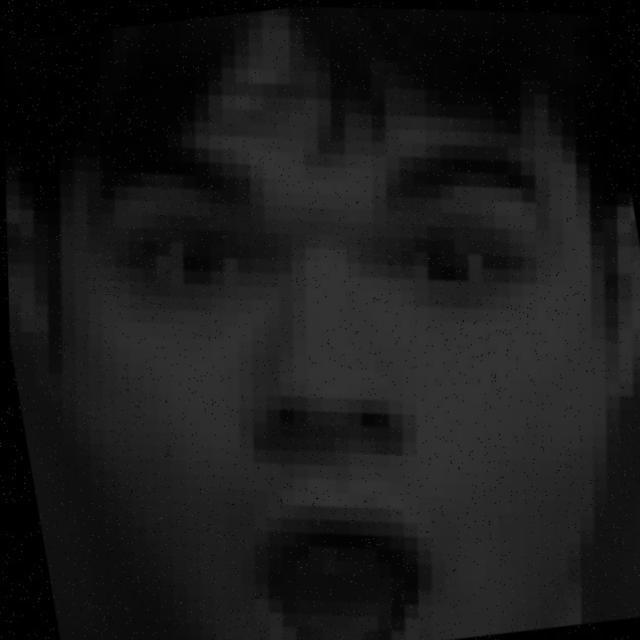Surprised: (65, 79, 595, 640)
